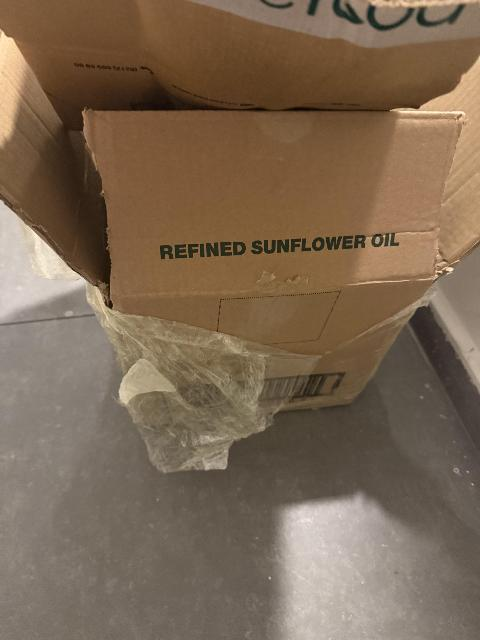Kagit: (0, 34, 480, 422)
Plastik: (86, 289, 318, 475)
